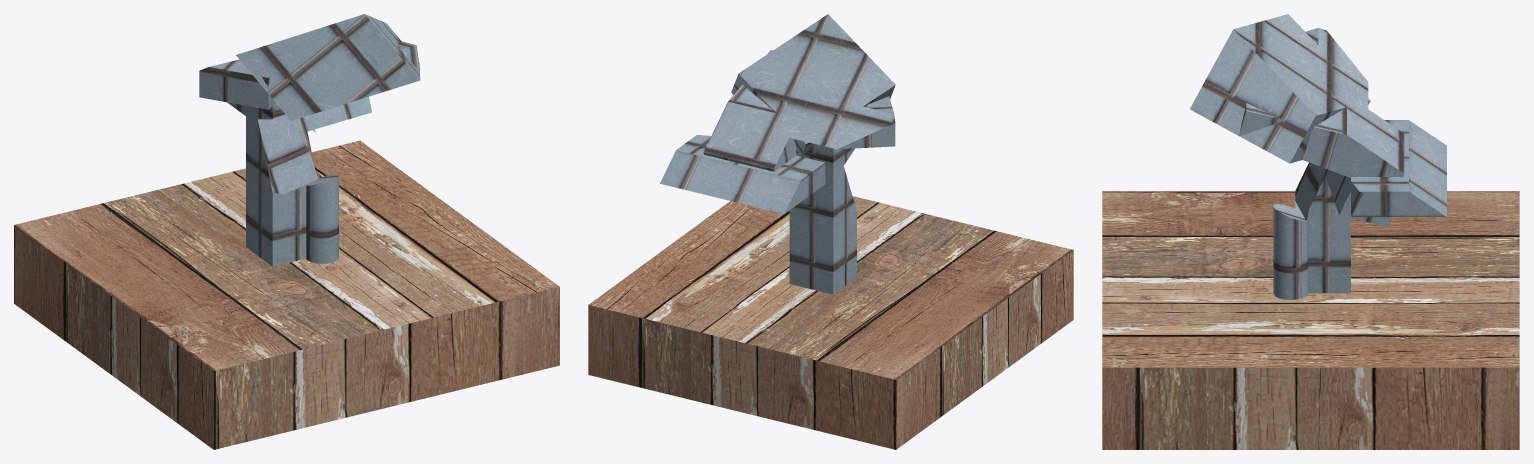
The model's file is taideteos.FBX.
3 renders of one model, left to right at view 1: azimuth 30°, elevation 25°; view 2: azimuth 150°, elevation 25°; view 3: azimuth 270°, elevation 25°, orthographic. The views are drawn at different scales.
Parts seen in each view (by area): view 1: Box001, Box002; view 2: Box001, Box002; view 3: Box001, Box002.
Part boxes in pixels (x1=…): Box001: x1=14, y1=140, x2=559, y2=449; Box002: x1=199, y1=14, x2=420, y2=266; Box001: x1=588, y1=196, x2=1073, y2=449; Box002: x1=660, y1=14, x2=895, y2=294; Box001: x1=1102, y1=191, x2=1519, y2=449; Box002: x1=1190, y1=14, x2=1446, y2=299.
Size of the model in its own units: 55.9 by 52.17 by 55.9.
2 materials, 2 textured.
